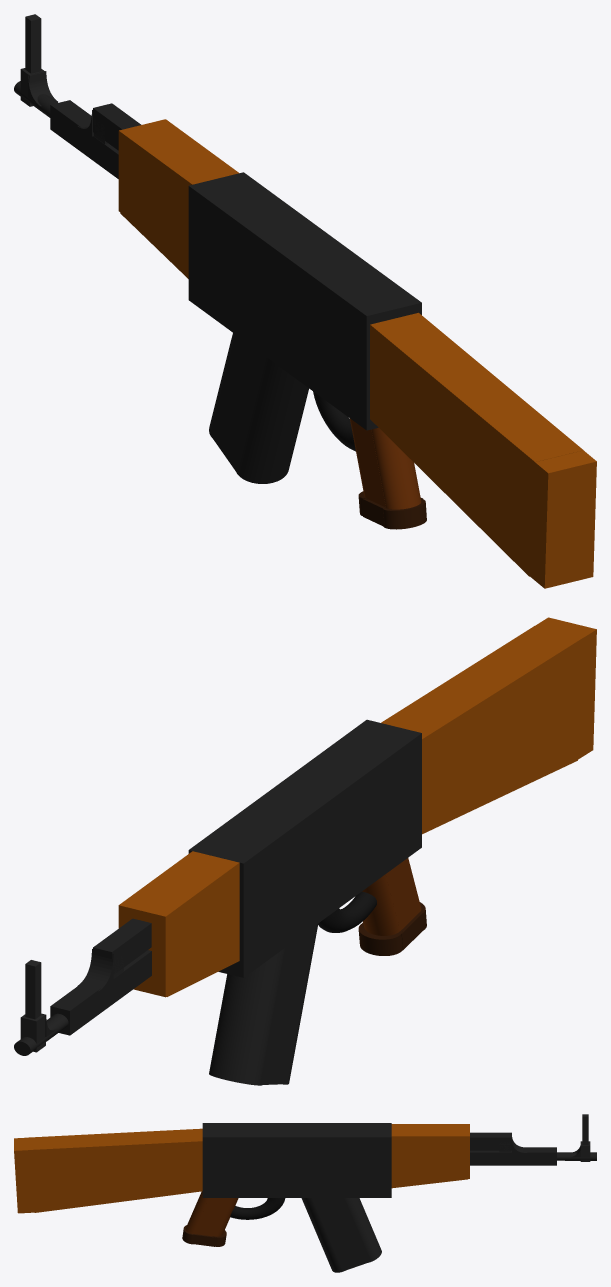
3 views of the same model, one above another, from view 1: azimuth 30°, elevation 25°; view 2: azimuth 150°, elevation 25°; view 3: azimuth 270°, elevation 25° (orthographic). The views are drawn at different scales.
Bounding box in the file's own units: 0.0356 × 0.1789 × 0.6152.
